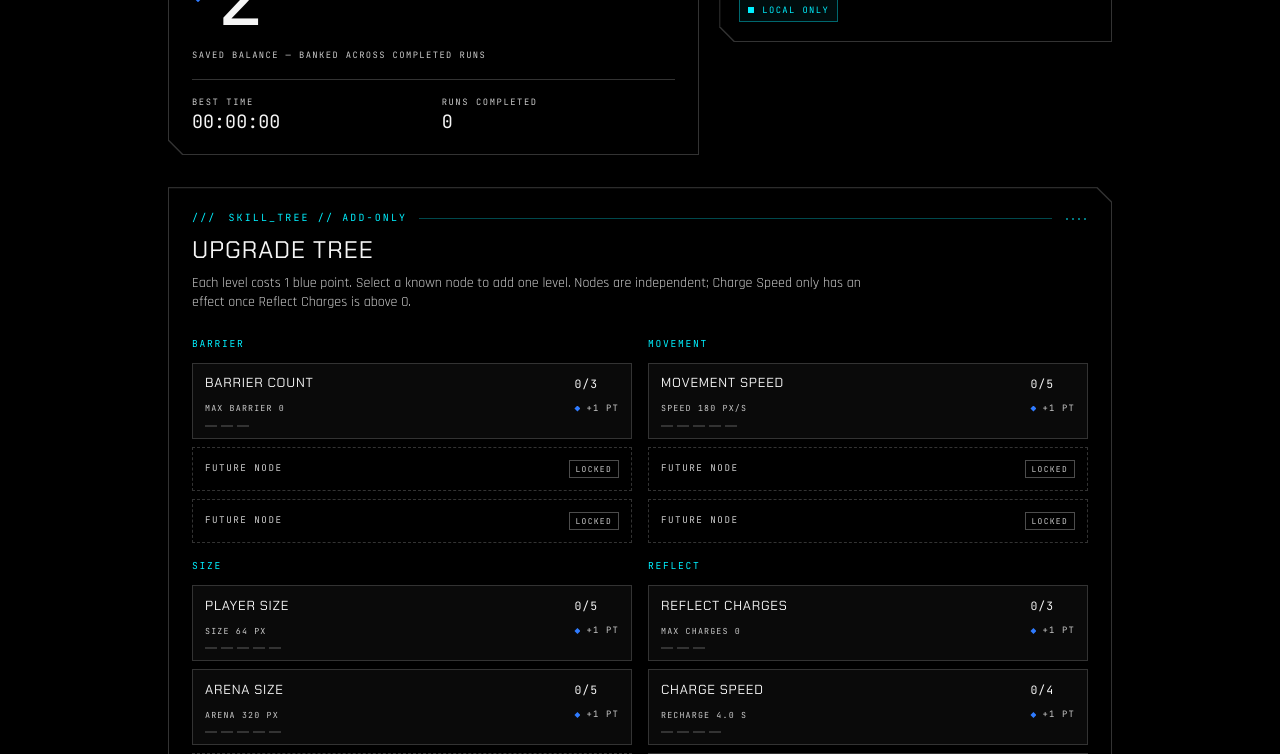
Scenario: SkillsScreen › adds exactly one level and one point with one write
(page scrolled)
Click the button "Movement Speed 0/5 SPEED 180 PX/S +1 PT" at point(723, 383), box [648,363,1088,439]
(page scrolled)
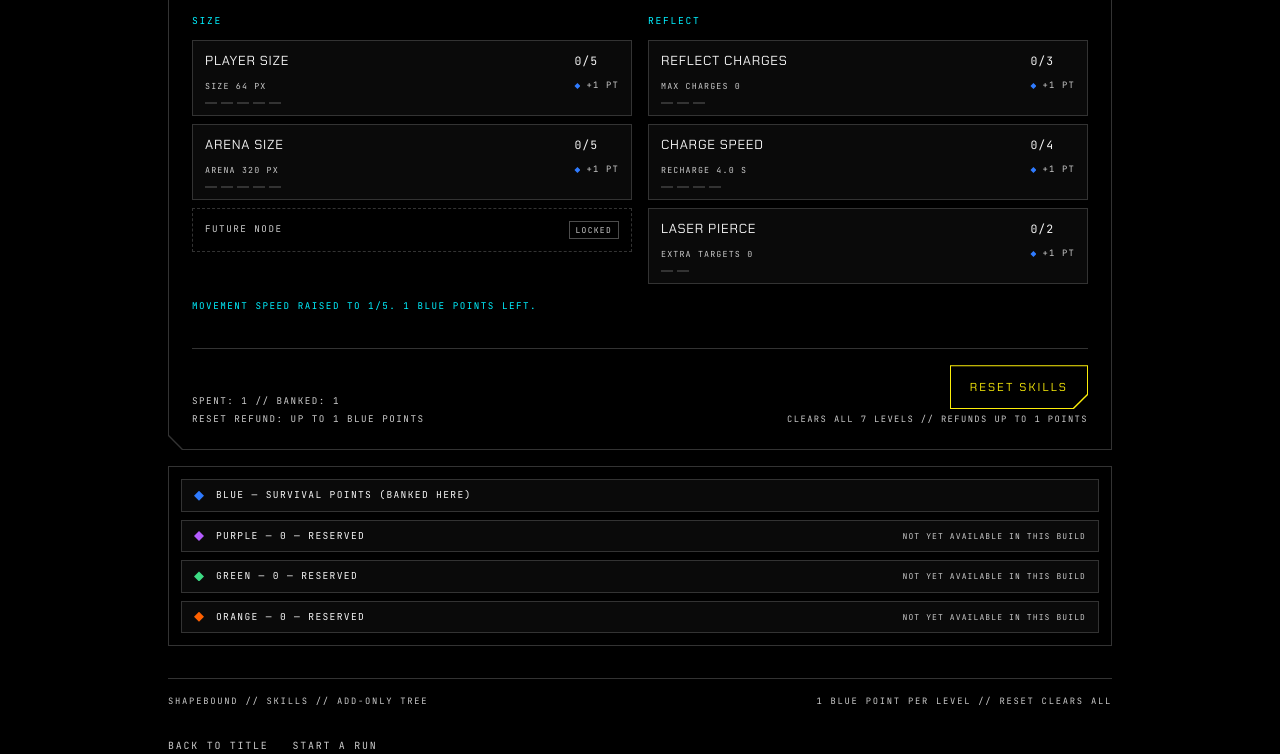
Check: the message reads "MOVEMENT SPEED RAISED TO 1/5. 1 BLUE POINTS LEFT.", box [192,300,537,312]
Check: the text "SPENT: 1 // BANKED: 1" is shown, box [192,395,340,407]
